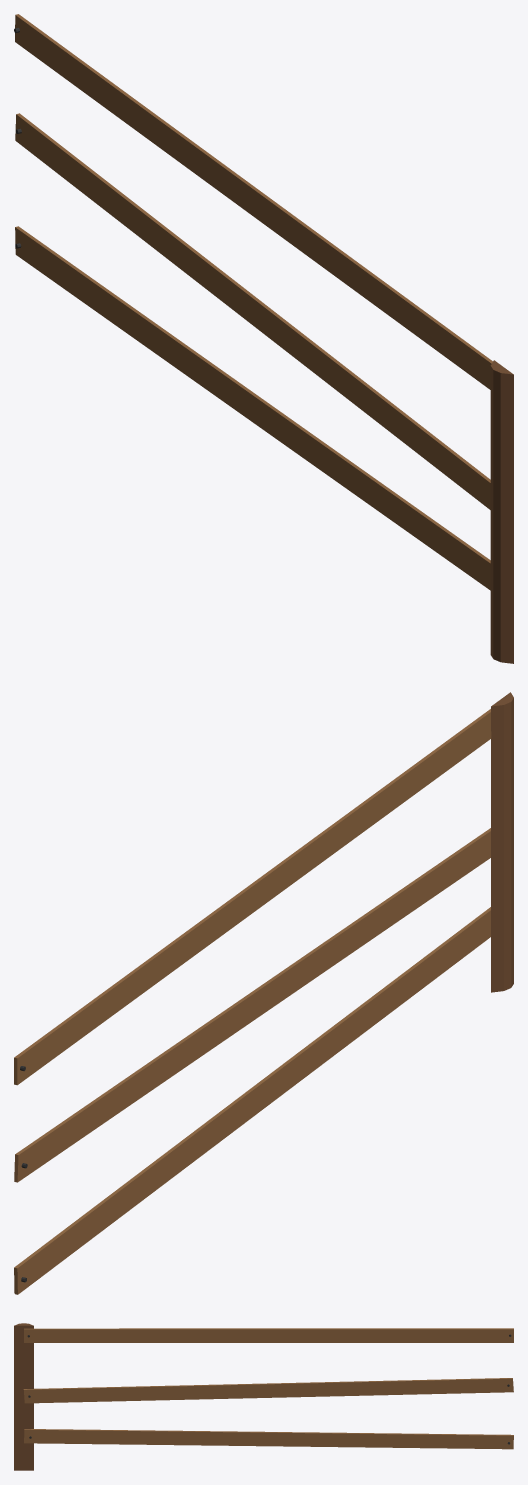
The model's file is fence2.glb.
3 renders of one model, top to bottom at view 1: azimuth 30°, elevation 25°; view 2: azimuth 150°, elevation 25°; view 3: azimuth 270°, elevation 25°, orthographic. The views are drawn at different scales.
Parts seen in each view (by area): view 1: Cube.003; view 2: Cube.003; view 3: Cube.003.
Boxes of the visible parts, box(x1,y1,x2,y2) form: Cube.003: box(14, 14, 513, 663); Cube.003: box(14, 692, 513, 1294); Cube.003: box(14, 1323, 513, 1470).
Size of what is drawn, in the model's own units: 0.0892 by 1.6 by 5.
